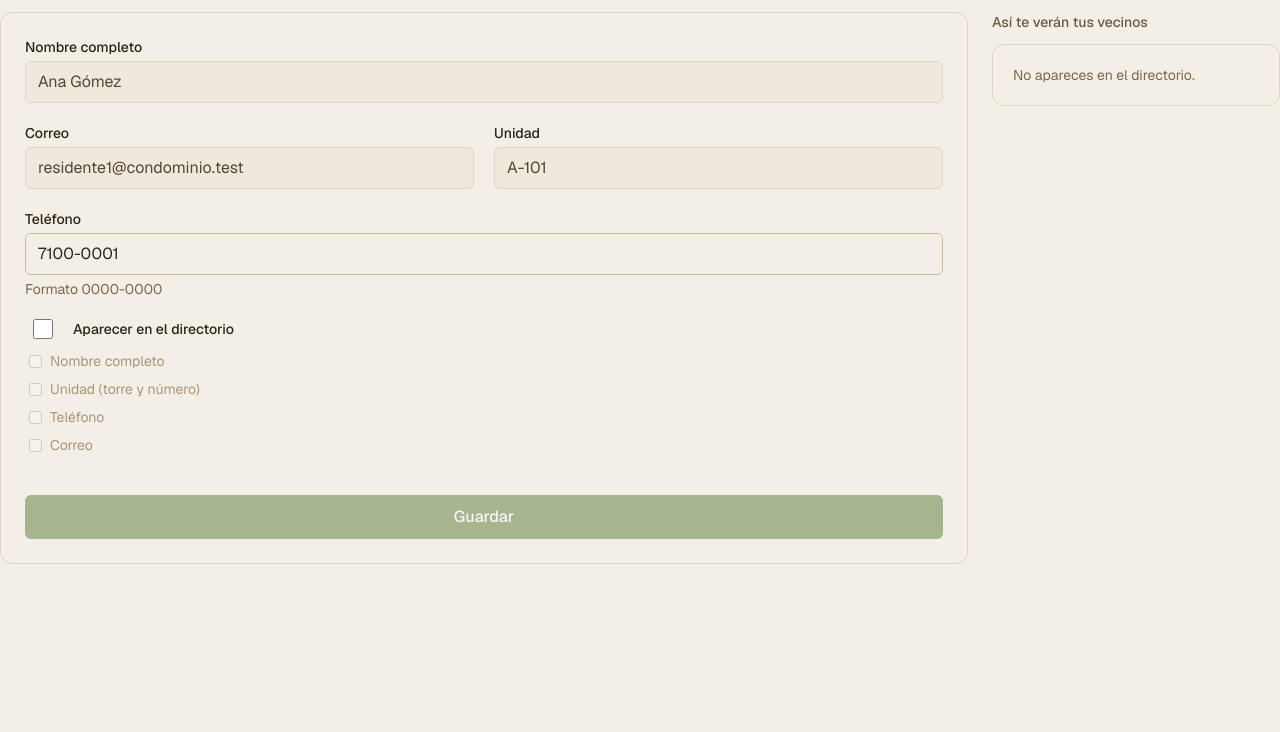
H28. Perfil y privacidad en el directorio › AC4: al guardar muestra Preferencias guardadas y conserva lo elegido
Click the switch labelled "Aparecer en el directorio" at (43, 329), box top-left (25, 319), bottom-right (61, 339)
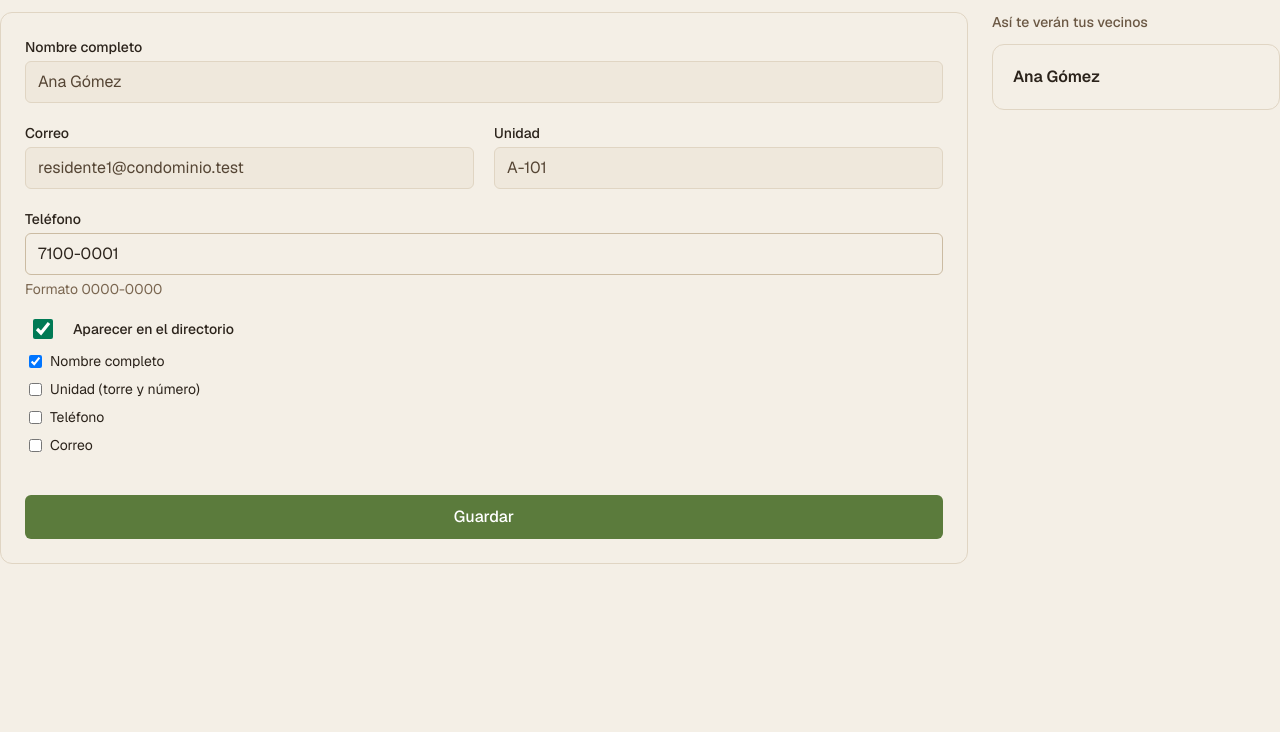
Click the checkbox labelled "Unidad (torre y número)" at (36, 389), box top-left (29, 382), bottom-right (42, 396)
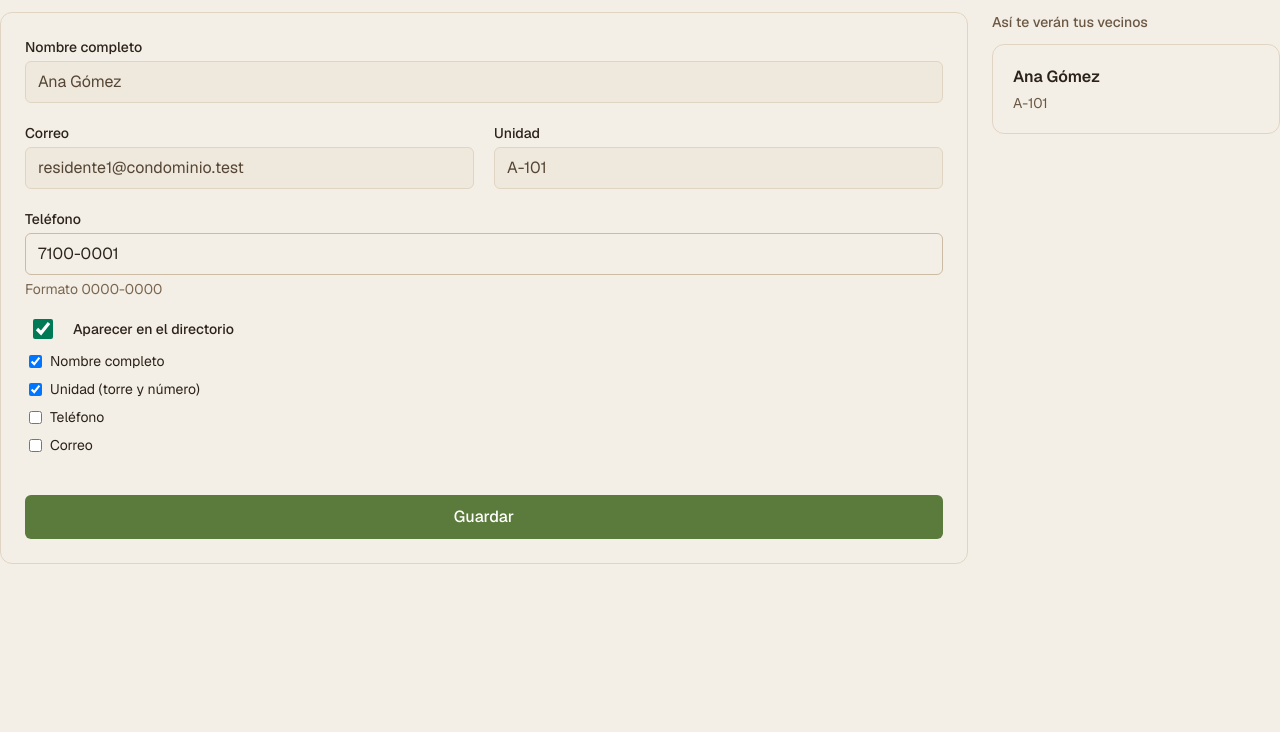
Click the button "Guardar" at (484, 517), box top-left (25, 495), bottom-right (943, 539)
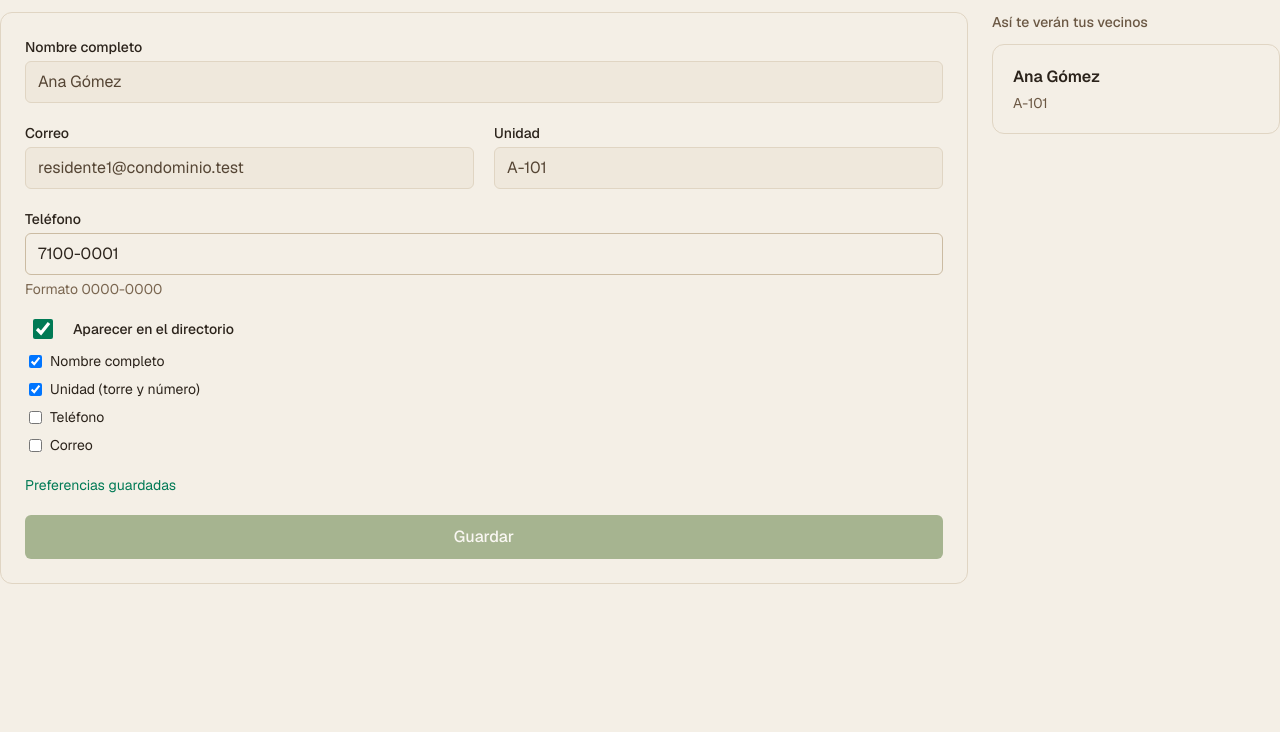
Now the switch labelled "Aparecer en el directorio" is checked, box top-left (25, 319), bottom-right (61, 339)
Now the checkbox labelled "Unidad (torre y número)" is checked, box top-left (29, 382), bottom-right (42, 396)
Now the text "Preferencias guardadas" is shown, box top-left (25, 476), bottom-right (176, 494)
